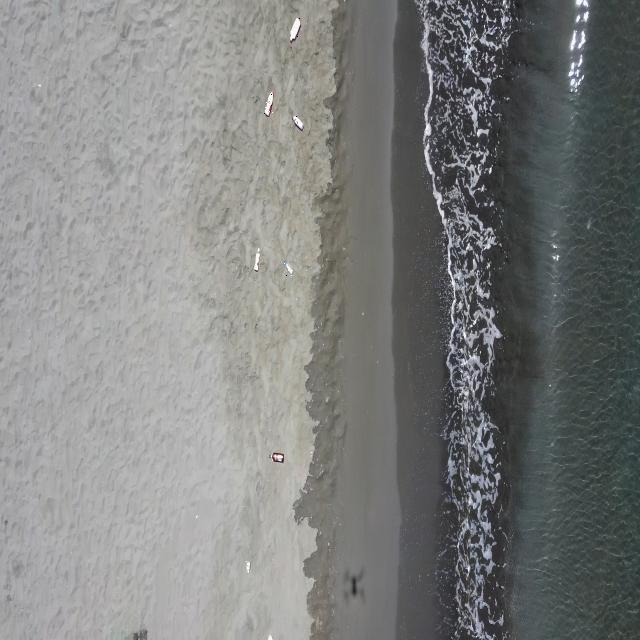plastic-bottle: (290, 16, 300, 43), (291, 112, 304, 130), (264, 91, 273, 117), (268, 451, 285, 464), (254, 247, 260, 272), (284, 262, 293, 276), (245, 560, 252, 575)
